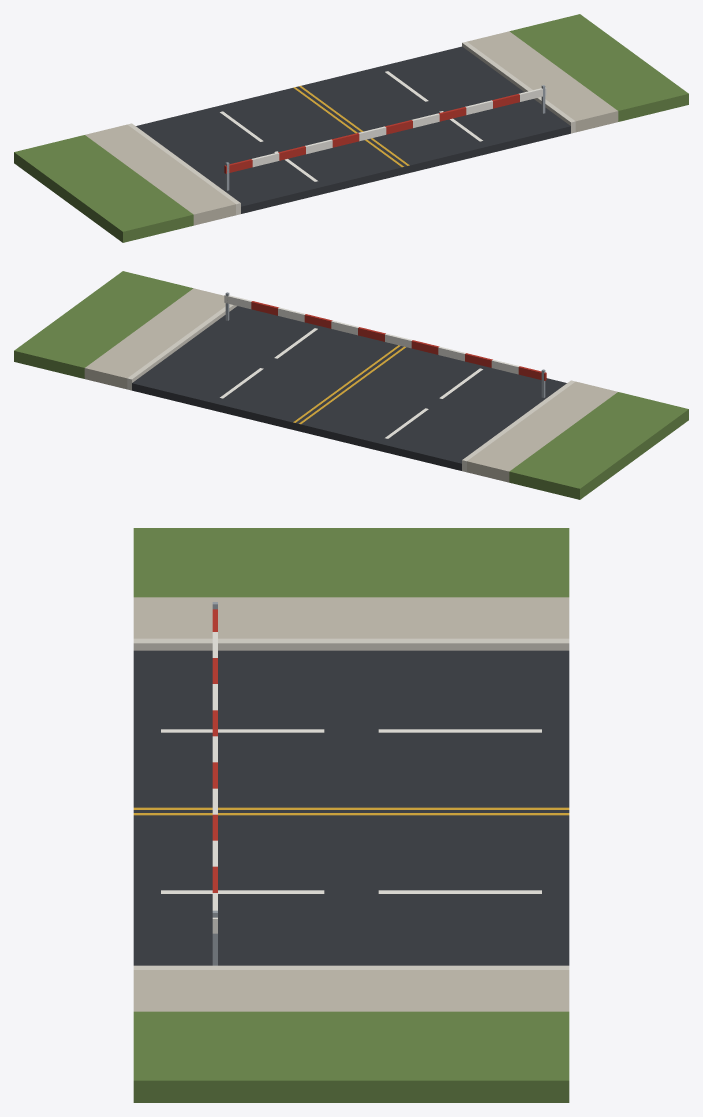
Rendered from Road_4Lane_Sidewalk_EndCap_Barrier.glb.
3 renders of one model, top to bottom at view 1: azimuth 30°, elevation 25°; view 2: azimuth 150°, elevation 25°; view 3: azimuth 270°, elevation 25°, orthographic. The views are drawn at different scales.
Parts seen in each view (by area): view 1: Road_4Lane_Sidewalk_EndCap_Barrier_Asphalt, Road_4Lane_Sidewalk_EndCap_Barrier_Grass-edge, Road_4Lane_Sidewalk_EndCap_Barrier_Sidewalk, Road_4Lane_Sidewalk_EndCap_Barrier_PaintWhite, Road_4Lane_Sidewalk_EndCap_Barrier_Curb, Road_4Lane_Sidewalk_EndCap_Barrier_SignRed, Road_4Lane_Sidewalk_EndCap_Barrier_PaintYellow; view 2: Road_4Lane_Sidewalk_EndCap_Barrier_Asphalt, Road_4Lane_Sidewalk_EndCap_Barrier_Grass-edge, Road_4Lane_Sidewalk_EndCap_Barrier_Sidewalk, Road_4Lane_Sidewalk_EndCap_Barrier_PaintWhite, Road_4Lane_Sidewalk_EndCap_Barrier_Curb, Road_4Lane_Sidewalk_EndCap_Barrier_SignRed, Road_4Lane_Sidewalk_EndCap_Barrier_PaintYellow; view 3: Road_4Lane_Sidewalk_EndCap_Barrier_Asphalt, Road_4Lane_Sidewalk_EndCap_Barrier_Grass-edge, Road_4Lane_Sidewalk_EndCap_Barrier_Sidewalk, Road_4Lane_Sidewalk_EndCap_Barrier_Curb, Road_4Lane_Sidewalk_EndCap_Barrier_PaintWhite, Road_4Lane_Sidewalk_EndCap_Barrier_PaintYellow, Road_4Lane_Sidewalk_EndCap_Barrier_SignRed.
Boxes of the visible parts, <box> form: Road_4Lane_Sidewalk_EndCap_Barrier_Asphalt: <box>136,46,570,213</box>; Road_4Lane_Sidewalk_EndCap_Barrier_Grass-edge: <box>14,14,688,242</box>; Road_4Lane_Sidewalk_EndCap_Barrier_Sidewalk: <box>85,31,618,225</box>; Road_4Lane_Sidewalk_EndCap_Barrier_PaintWhite: <box>220,71,546,181</box>; Road_4Lane_Sidewalk_EndCap_Barrier_Curb: <box>127,41,575,215</box>; Road_4Lane_Sidewalk_EndCap_Barrier_SignRed: <box>224,94,519,173</box>; Road_4Lane_Sidewalk_EndCap_Barrier_PaintYellow: <box>293,85,409,167</box>; Road_4Lane_Sidewalk_EndCap_Barrier_Asphalt: <box>132,306,566,470</box>; Road_4Lane_Sidewalk_EndCap_Barrier_Grass-edge: <box>14,271,688,499</box>; Road_4Lane_Sidewalk_EndCap_Barrier_Sidewalk: <box>84,288,617,482</box>; Road_4Lane_Sidewalk_EndCap_Barrier_PaintWhite: <box>220,295,519,438</box>; Road_4Lane_Sidewalk_EndCap_Barrier_Curb: <box>127,304,575,472</box>; Road_4Lane_Sidewalk_EndCap_Barrier_SignRed: <box>251,301,546,380</box>; Road_4Lane_Sidewalk_EndCap_Barrier_PaintYellow: <box>293,345,405,424</box>; Road_4Lane_Sidewalk_EndCap_Barrier_Asphalt: <box>133,650,569,965</box>; Road_4Lane_Sidewalk_EndCap_Barrier_Grass-edge: <box>133,528,569,1102</box>; Road_4Lane_Sidewalk_EndCap_Barrier_Sidewalk: <box>133,597,569,1011</box>; Road_4Lane_Sidewalk_EndCap_Barrier_Curb: <box>133,638,569,969</box>; Road_4Lane_Sidewalk_EndCap_Barrier_PaintWhite: <box>161,632,541,933</box>; Road_4Lane_Sidewalk_EndCap_Barrier_PaintYellow: <box>133,807,569,815</box>; Road_4Lane_Sidewalk_EndCap_Barrier_SignRed: <box>212,609,217,892</box>.
Size of the model in its own units: 24 by 1.4 by 8.
